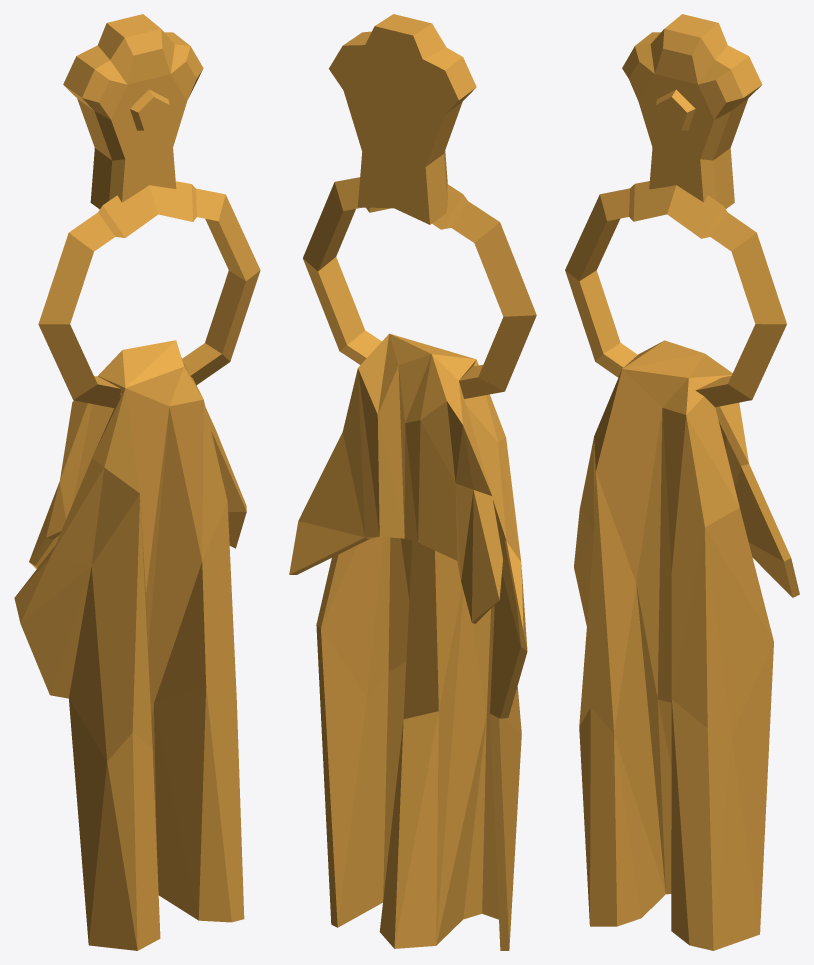
Rendered from SM_Towel_Hanging_Victorian.fbx.
3 views of the same model, side by side, from view 1: azimuth 30°, elevation 25°; view 2: azimuth 150°, elevation 25°; view 3: azimuth 330°, elevation 25° (orthographic). The views are drawn at different scales.
Parts seen in each view (by area): view 1: towel-hanging-victorian; view 2: towel-hanging-victorian; view 3: towel-hanging-victorian.
Boxes of the visible parts, x1,y1,x2,y2 form: towel-hanging-victorian: (14, 14, 260, 950); towel-hanging-victorian: (289, 14, 536, 950); towel-hanging-victorian: (565, 14, 799, 950).
Bounding box in the file's own units: 0.2089 × 0.7735 × 0.0983.
